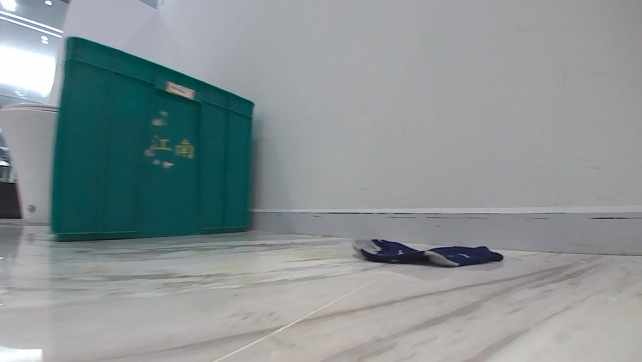socks: (350, 230, 505, 270)
toilet: (0, 99, 59, 229)
